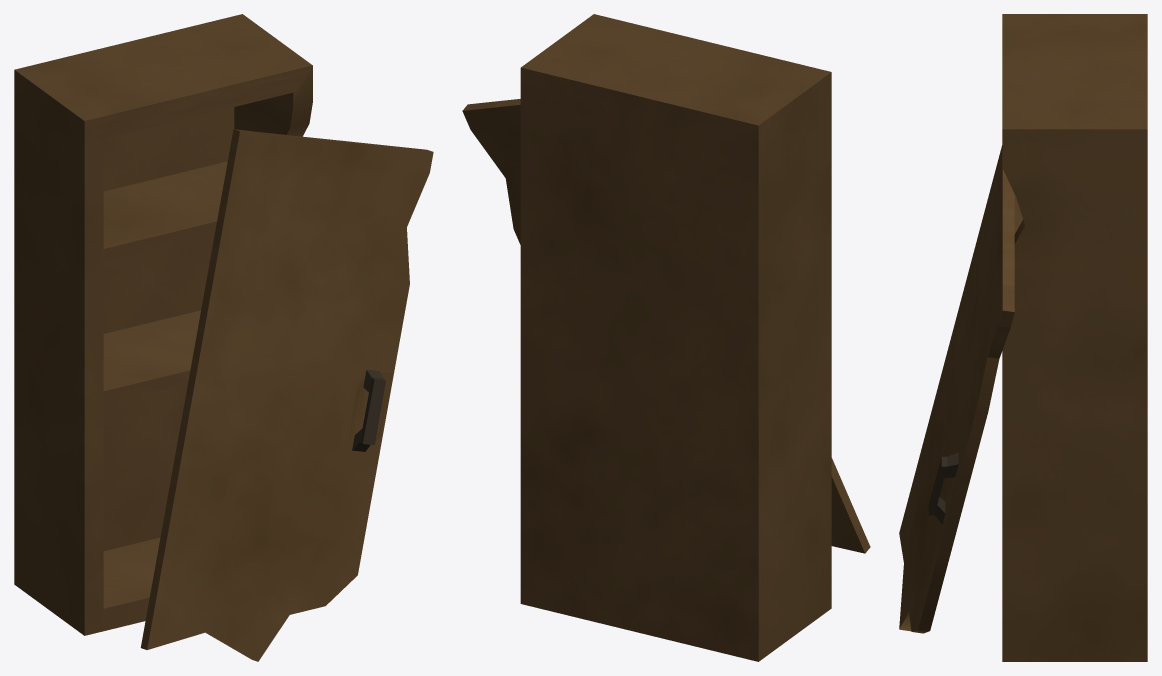
Rendered from TallCabinet_Broken.fbx.
3 renders of one model, left to right at view 1: azimuth 30°, elevation 25°; view 2: azimuth 150°, elevation 25°; view 3: azimuth 270°, elevation 25°, orthographic. The views are drawn at different scales.
Parts seen in each view (by area): view 1: polySurface8; view 2: polySurface8; view 3: polySurface8.
Part boxes in pixels (box(x1,y1,x2,y2)): polySurface8: box(14, 14, 433, 661); polySurface8: box(462, 14, 870, 661); polySurface8: box(899, 14, 1147, 661).
Bounding box in the file's own units: 89.39 × 131 × 53.26.
